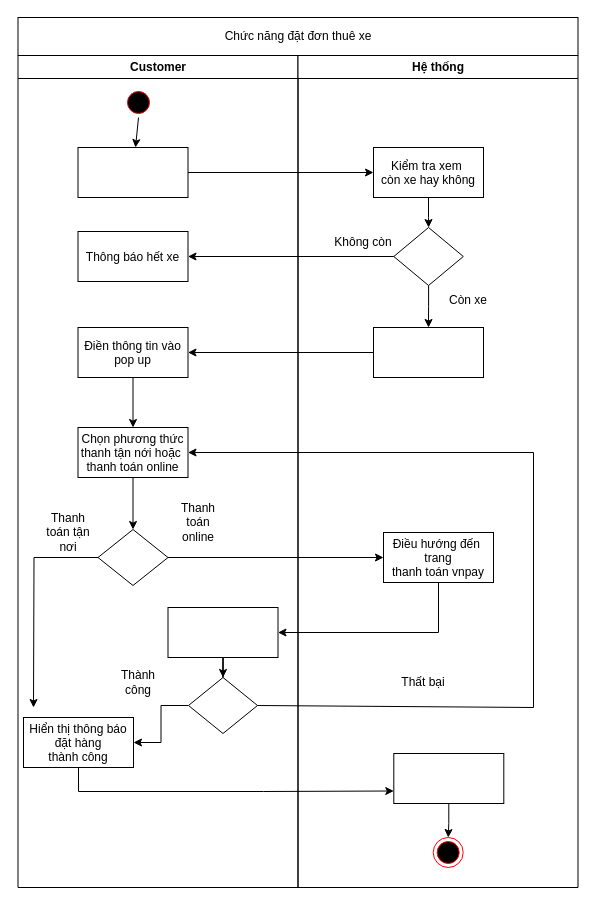
Image size: 595x905. Some labels were removed from this diagram. Here are the shapes that lost their labels. From the top down, the centre of each, then its label:
the point at 132,172: Xem thông tin xe và chọn đặt xe
the point at 428,352: Hiển thị popup điền thông tin
the point at 222,632: Người dùng nhập thông tin thanh toán
the point at 448,778: Lưu thông tin đơn hàng vào database
